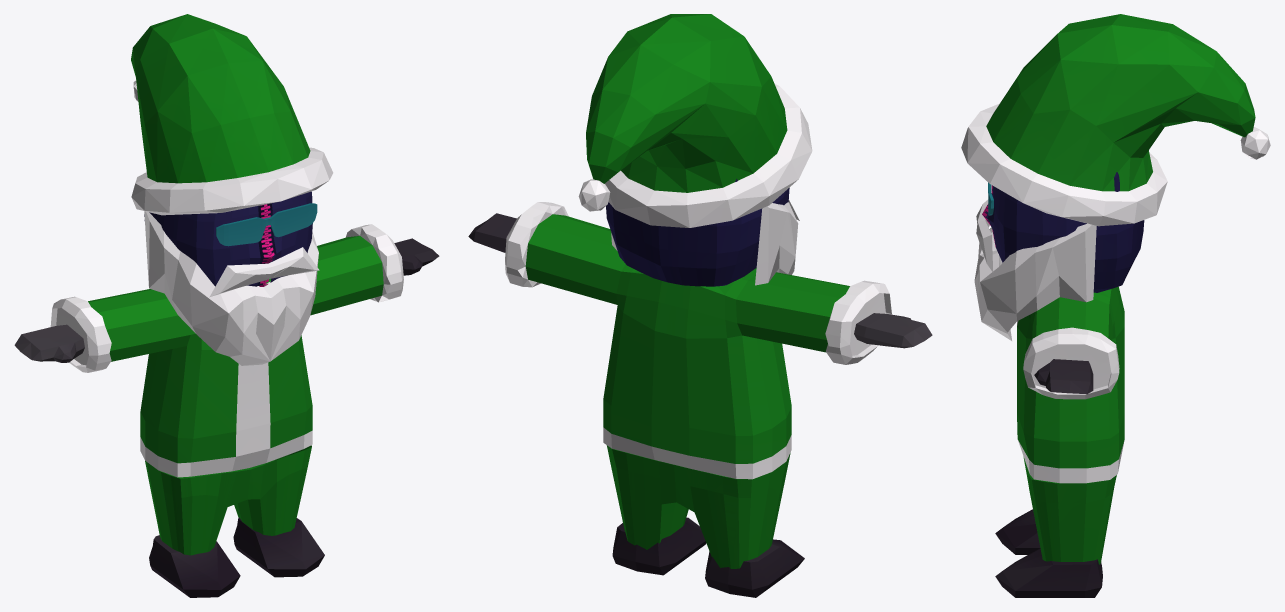
File: santa_e.glb
The picture shows the model from 3 angles, left to right: view 1: azimuth 30°, elevation 25°; view 2: azimuth 150°, elevation 25°; view 3: azimuth 270°, elevation 25°; orthographic projection. The views are drawn at different scales.
Parts seen in each view (by area): view 1: hontai.001, boushi, hige-e, zubon, eoh, kutu-r, kutu-l, sunguras, hanahige-e, te-r, te-l; view 2: hontai.001, boushi, zubon, eoh, kutu-r, kutu-l, hige-e, te-r, te-l; view 3: boushi, hontai.001, hige-e, eoh, zubon, kutu-l, te-l, kutu-r, hanahige-e.
Part boxes in pixels (bbox=[...]): hontai.001: bbox=[50, 224, 403, 477]; boushi: bbox=[131, 14, 333, 215]; hige-e: bbox=[144, 211, 318, 365]; zubon: bbox=[145, 445, 311, 555]; eoh: bbox=[144, 191, 312, 286]; kutu-r: bbox=[149, 535, 240, 597]; kutu-l: bbox=[233, 517, 324, 577]; sunguras: bbox=[216, 203, 317, 246]; hanahige-e: bbox=[209, 247, 319, 297]; te-r: bbox=[14, 324, 84, 362]; te-l: bbox=[394, 238, 439, 275]; hontai.001: bbox=[505, 202, 891, 479]; boushi: bbox=[578, 14, 812, 227]; zubon: bbox=[606, 445, 790, 568]; eoh: bbox=[606, 179, 789, 286]; kutu-r: bbox=[705, 539, 804, 597]; kutu-l: bbox=[612, 517, 706, 575]; hige-e: bbox=[611, 202, 798, 285]; te-r: bbox=[854, 313, 932, 348]; te-l: bbox=[468, 213, 516, 252]; boushi: bbox=[961, 14, 1270, 226]; hontai.001: bbox=[1017, 286, 1124, 483]; hige-e: bbox=[974, 223, 1096, 340]; eoh: bbox=[982, 172, 1144, 292]; zubon: bbox=[1023, 457, 1116, 564]; kutu-l: bbox=[995, 548, 1102, 597]; te-l: bbox=[1034, 359, 1093, 394]; kutu-r: bbox=[995, 509, 1040, 554]; hanahige-e: bbox=[976, 199, 993, 272].
Bounding box in the file's own units: 7.44 × 8.98 × 4.64.
12 materials, 12 textured.
